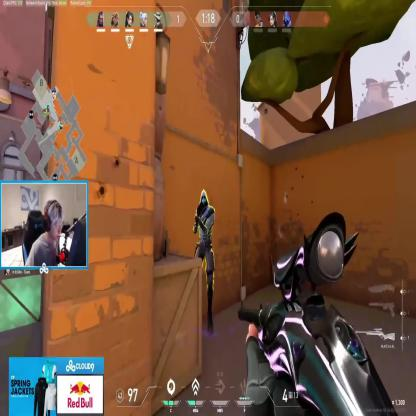enemy: (192, 186, 216, 336)
enemy_head: (199, 188, 209, 211)
